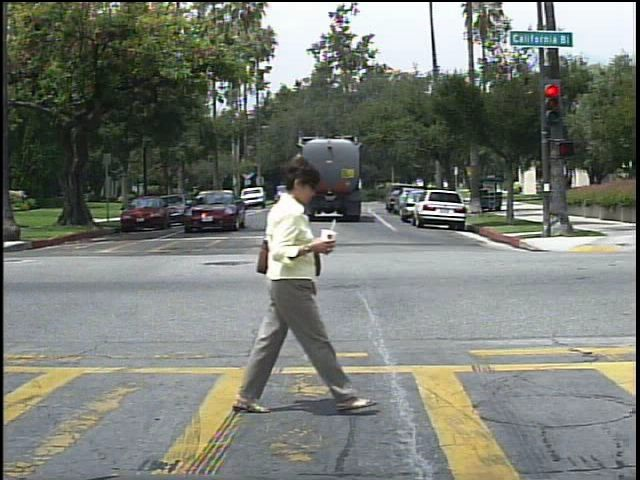person: (229, 151, 349, 423), (515, 180, 528, 200)
